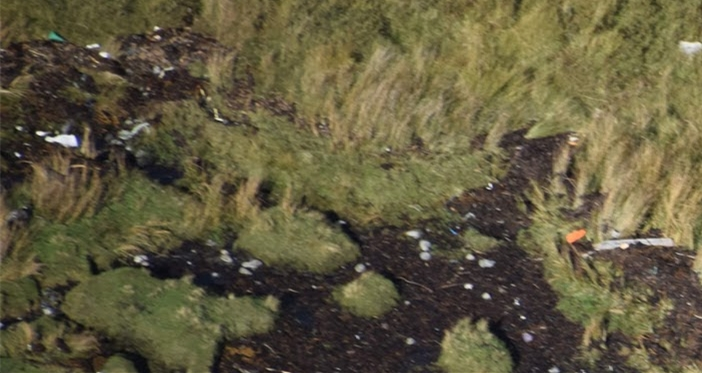scattered_barrel: (42, 15, 185, 84)
straight_bar: (593, 231, 680, 263)
white_in_green: (26, 109, 95, 171), (549, 211, 605, 260)
